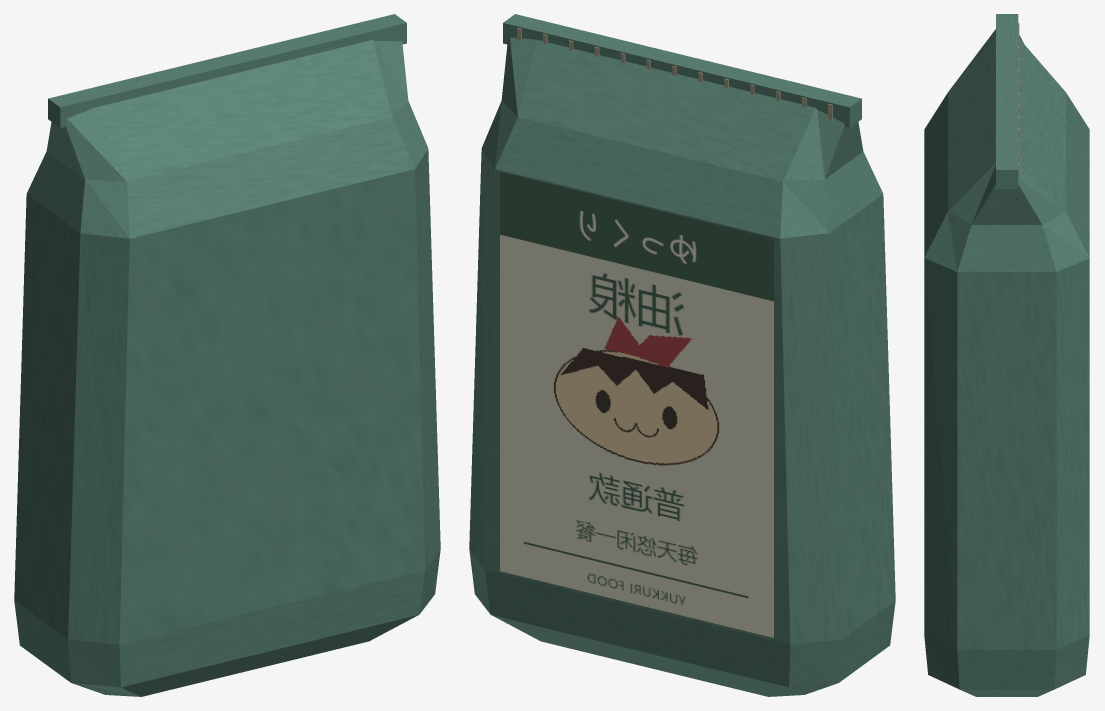
File: oil_grain_regular.obj
3 views of the same model, side by side, from view 1: azimuth 30°, elevation 25°; view 2: azimuth 150°, elevation 25°; view 3: azimuth 270°, elevation 25° (orthographic). The views are drawn at different scales.
Parts seen in each view (by area): view 1: oil_grain_regular; view 2: oil_grain_regular; view 3: oil_grain_regular.
Boxes of the visible parts, left/top/right/bottom form: oil_grain_regular: left=14, top=14, right=440, bottom=696; oil_grain_regular: left=469, top=14, right=895, bottom=696; oil_grain_regular: left=924, top=14, right=1089, bottom=696.
Size of the model in its own units: 6.04 by 9.11 by 2.54.
Materials: 1 (1 with a texture image).
